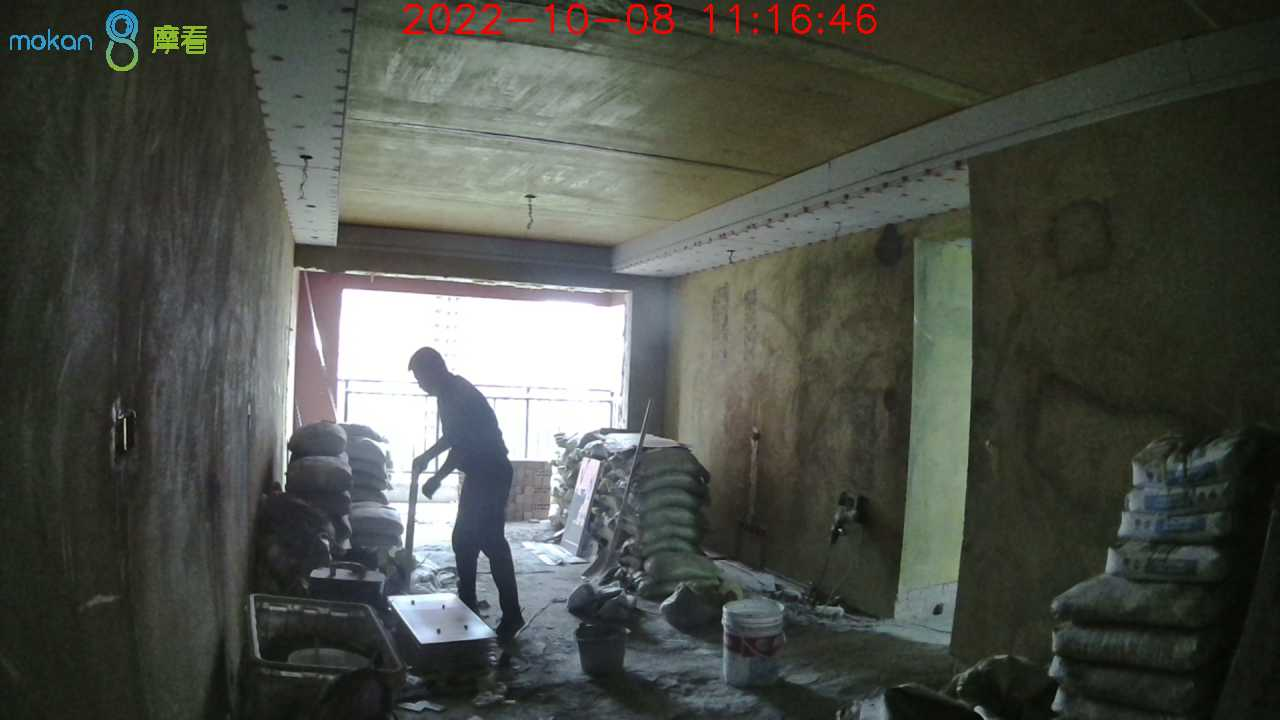people: (409, 346, 527, 635)
window: (337, 287, 626, 451)
